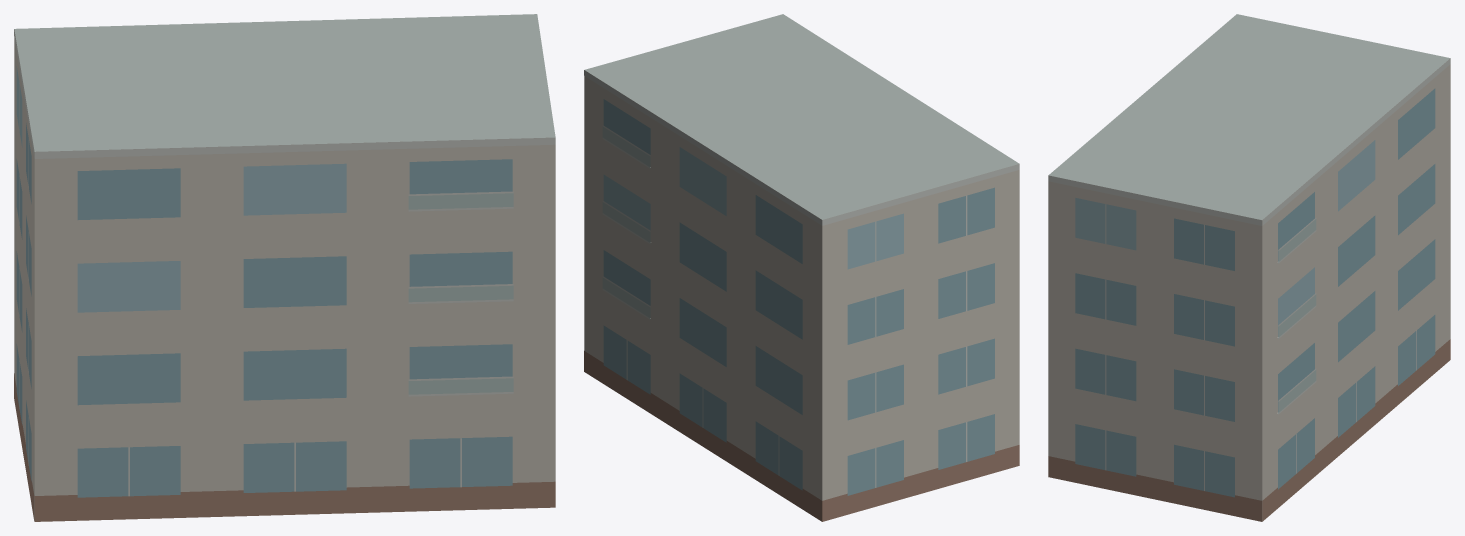
Rendered from survey-upis-32533680.glb.
The picture shows the model from 3 angles, left to right: view 1: azimuth 30°, elevation 25°; view 2: azimuth 150°, elevation 25°; view 3: azimuth 270°, elevation 25°; orthographic projection. The views are drawn at different scales.
Visible parts, largest first — view 1: survey-upis-32533680.tmp; view 2: survey-upis-32533680.tmp; view 3: survey-upis-32533680.tmp.
Boxes of the visible parts, bbox=[...] form: survey-upis-32533680.tmp: bbox=[14, 14, 555, 521]; survey-upis-32533680.tmp: bbox=[584, 14, 1019, 521]; survey-upis-32533680.tmp: bbox=[1048, 14, 1450, 521].
Size of the model in its own units: 18.33 by 12.5 by 15.11.
